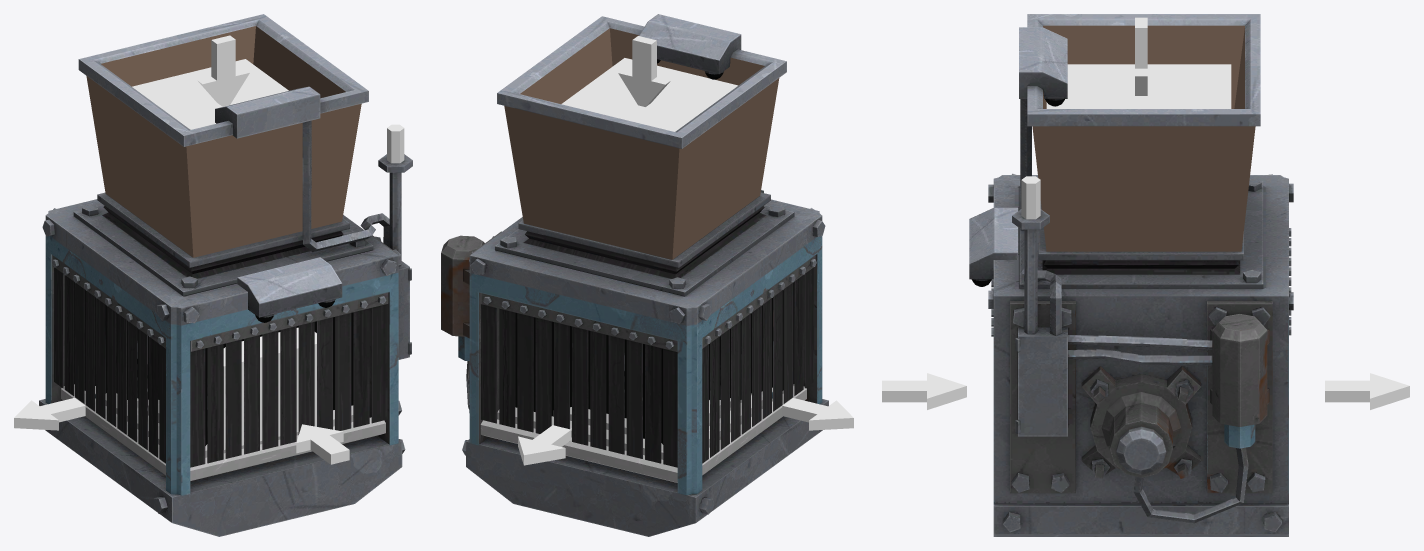
Rendered from RollerSorter_Mirror.glb.
The picture shows the model from 3 angles, left to right: view 1: azimuth 30°, elevation 25°; view 2: azimuth 150°, elevation 25°; view 3: azimuth 270°, elevation 25°; orthographic projection. The views are drawn at different scales.
Visible parts, largest first — view 1: RollerSorter_Mirror, FilterTrigger, ghostarrow (3), SorterTrigger, ghostarrow (2), ghostarrow; view 2: RollerSorter_Mirror, FilterTrigger, ghostarrow (3), ghostarrow (2), ghostarrow (1); view 3: RollerSorter_Mirror, FilterTrigger, ghostarrow, ghostarrow (1), ghostarrow (3).
Boxes of the visible parts, x1,y1,x2,y2 form: RollerSorter_Mirror: [39, 14, 412, 536]; FilterTrigger: [132, 59, 288, 129]; ghostarrow (3): [197, 35, 249, 106]; SorterTrigger: [223, 327, 316, 449]; ghostarrow (2): [14, 397, 85, 430]; ghostarrow: [296, 424, 349, 464]; RollerSorter_Mirror: [441, 14, 828, 536]; FilterTrigger: [561, 58, 737, 131]; ghostarrow (3): [618, 36, 670, 106]; ghostarrow (2): [782, 398, 853, 430]; ghostarrow (1): [518, 425, 571, 465]; RollerSorter_Mirror: [969, 14, 1293, 536]; FilterTrigger: [1046, 64, 1231, 108]; ghostarrow: [882, 373, 966, 409]; ghostarrow (1): [1325, 373, 1409, 409]; ghostarrow (3): [1135, 17, 1147, 95].
Size of the model in its own units: 1.65 by 1.79 by 1.79.
7 materials, 3 textured.
